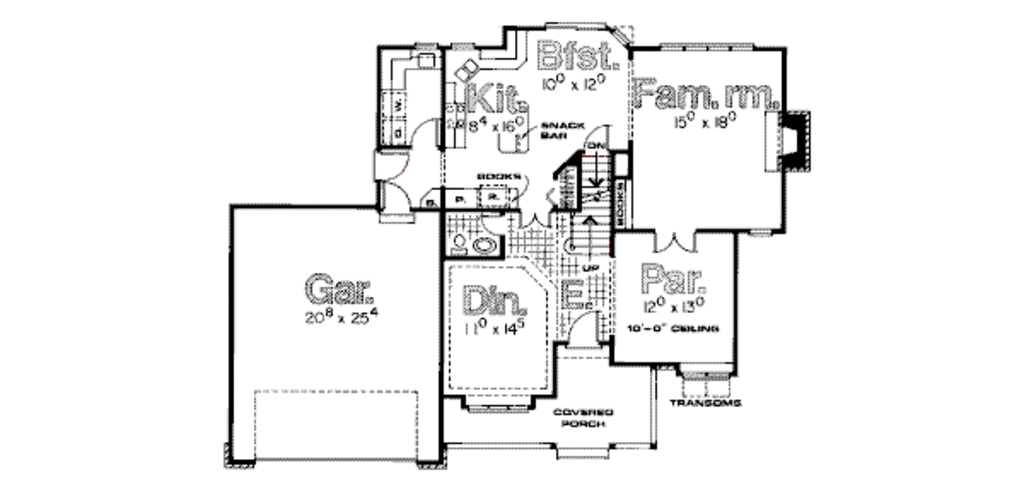door: (565, 309, 600, 354), (376, 181, 414, 222), (403, 115, 442, 152), (652, 226, 696, 257), (375, 149, 409, 182), (583, 126, 615, 161), (517, 203, 552, 232), (479, 207, 503, 234)
large_sink: (448, 230, 474, 257)
small_sink: (470, 236, 503, 256)
stairs: (563, 154, 616, 259)
twin_sink: (451, 57, 485, 85)
window: (653, 40, 759, 54), (459, 398, 533, 415), (675, 365, 734, 385), (739, 225, 777, 242), (412, 37, 439, 53), (449, 40, 478, 53)
